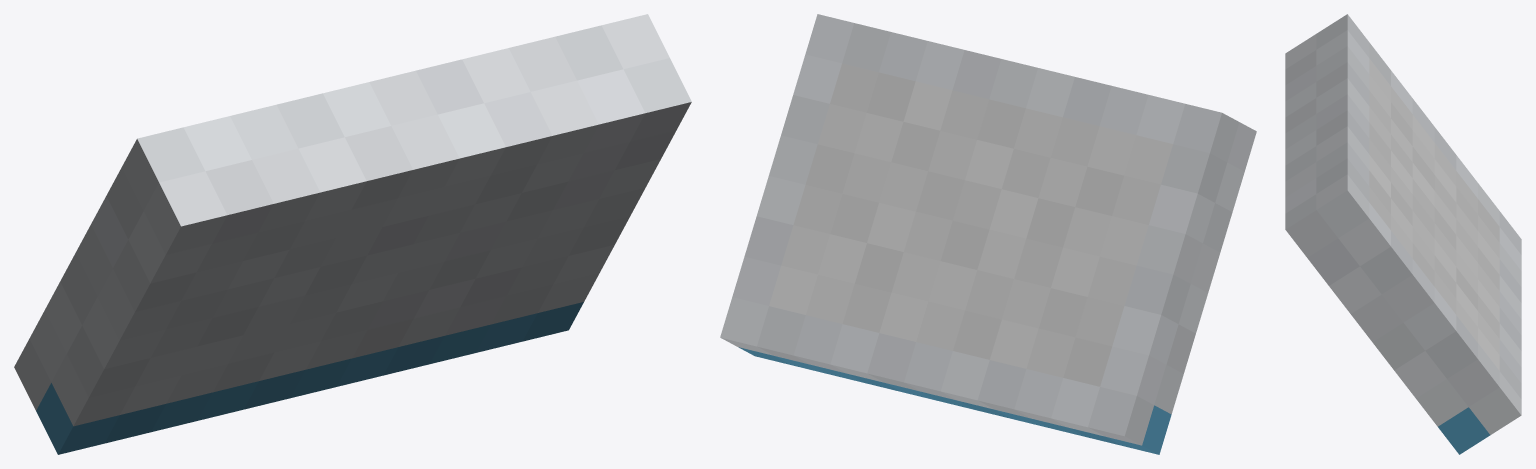
File: item_scanner.glb
3 renders of one model, left to right at view 1: azimuth 30°, elevation 25°; view 2: azimuth 150°, elevation 25°; view 3: azimuth 270°, elevation 25°, orthographic. The views are drawn at different scales.
Visible parts, largest first — view 1: item_scanner; view 2: item_scanner; view 3: item_scanner.
Part boxes in pixels (x1,y1,x2,y2): item_scanner: [14, 14, 691, 454]; item_scanner: [720, 14, 1256, 454]; item_scanner: [1285, 14, 1521, 454].
Bounding box in the file's own units: 0.2578 × 0.1805 × 0.1459.
